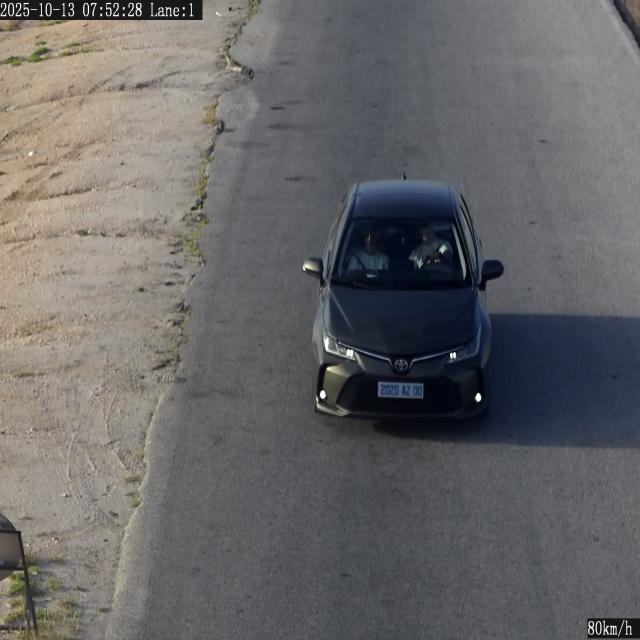BUS: (378, 382, 423, 399)
